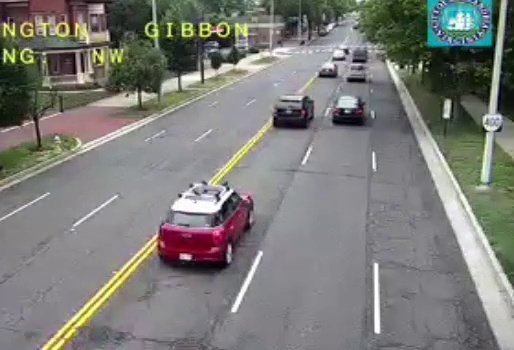car: (157, 182, 253, 264), (272, 95, 314, 123), (333, 96, 363, 121), (346, 64, 367, 80)
